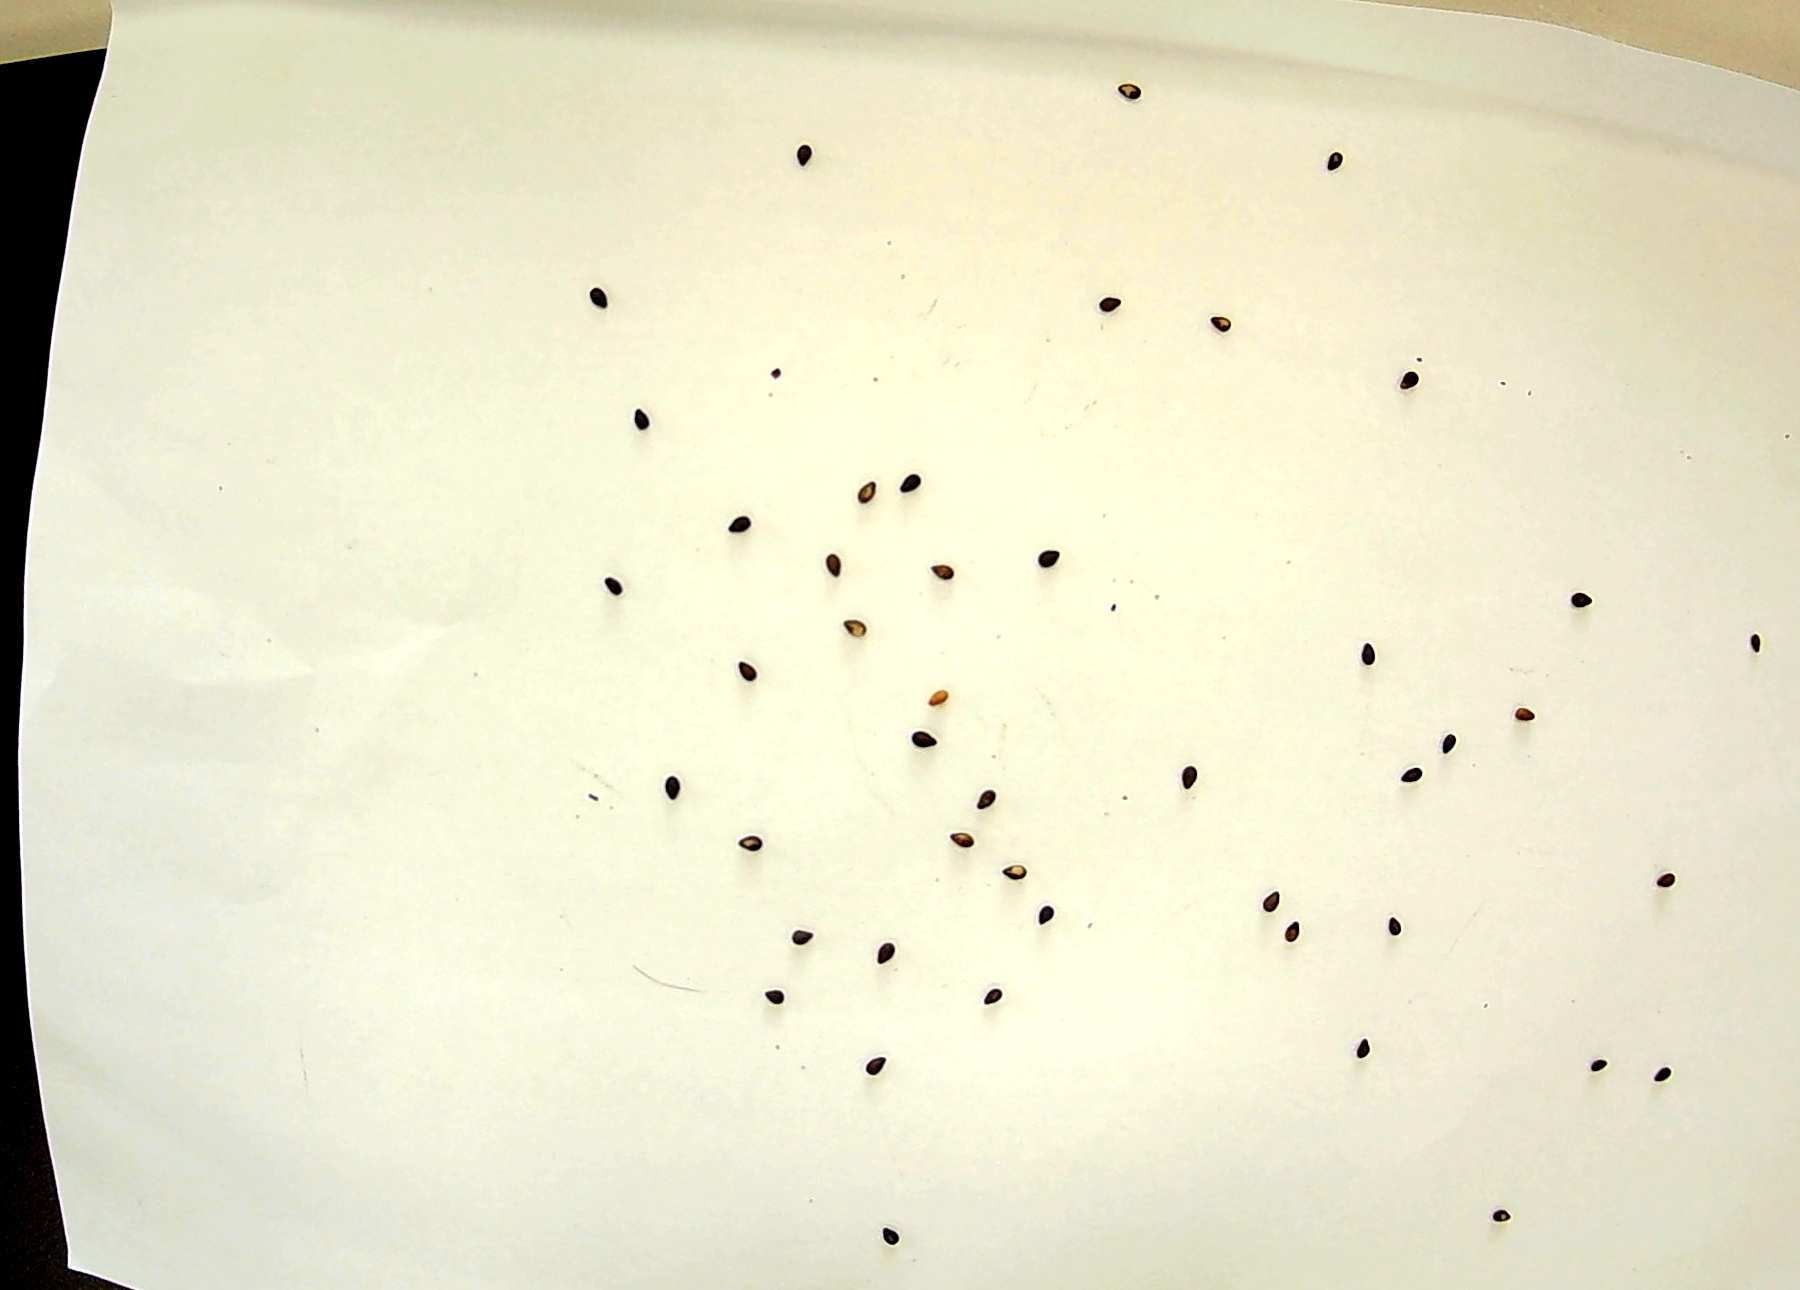sesami: (1348, 1030, 1380, 1075), (661, 762, 693, 804), (740, 813, 772, 854), (758, 972, 790, 1014), (783, 916, 815, 958), (875, 1210, 907, 1252), (864, 931, 896, 973), (848, 1047, 880, 1089), (841, 607, 873, 649), (975, 979, 1007, 1021), (1026, 896, 1058, 938), (991, 854, 1023, 896), (940, 818, 973, 860), (971, 785, 1003, 826), (899, 723, 931, 765), (917, 680, 949, 722), (820, 546, 853, 588), (848, 470, 880, 512), (896, 468, 928, 510), (922, 553, 954, 595), (1035, 542, 1067, 584), (1175, 757, 1207, 799), (1273, 907, 1305, 949), (1373, 905, 1405, 947), (1587, 1047, 1619, 1089), (1647, 1057, 1679, 1099), (1486, 1196, 1518, 1238), (1647, 864, 1679, 906), (1561, 586, 1593, 628), (1513, 695, 1545, 737), (1430, 730, 1462, 772), (1402, 751, 1434, 793), (1393, 360, 1425, 402), (1203, 304, 1235, 346), (1091, 288, 1123, 329), (1316, 128, 1348, 170), (1108, 61, 1140, 103), (786, 141, 818, 183), (783, 140, 815, 181), (1259, 873, 1289, 914), (1739, 625, 1769, 667), (1358, 634, 1388, 676), (631, 395, 661, 434), (723, 505, 753, 544), (601, 567, 632, 606), (731, 648, 762, 687), (579, 281, 610, 318)
